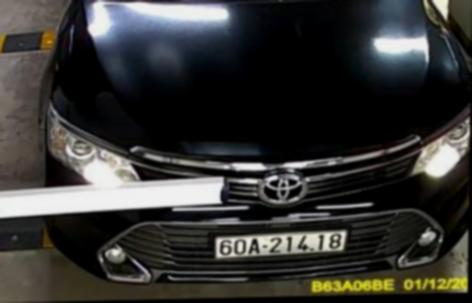License_Plate: (212, 222, 352, 259)
